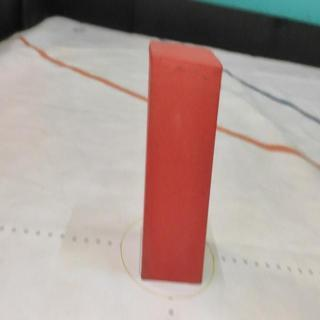redbox: (140, 41, 224, 287)
